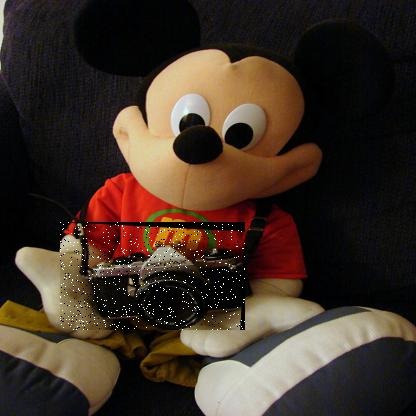Camera: (61, 223, 247, 332)
